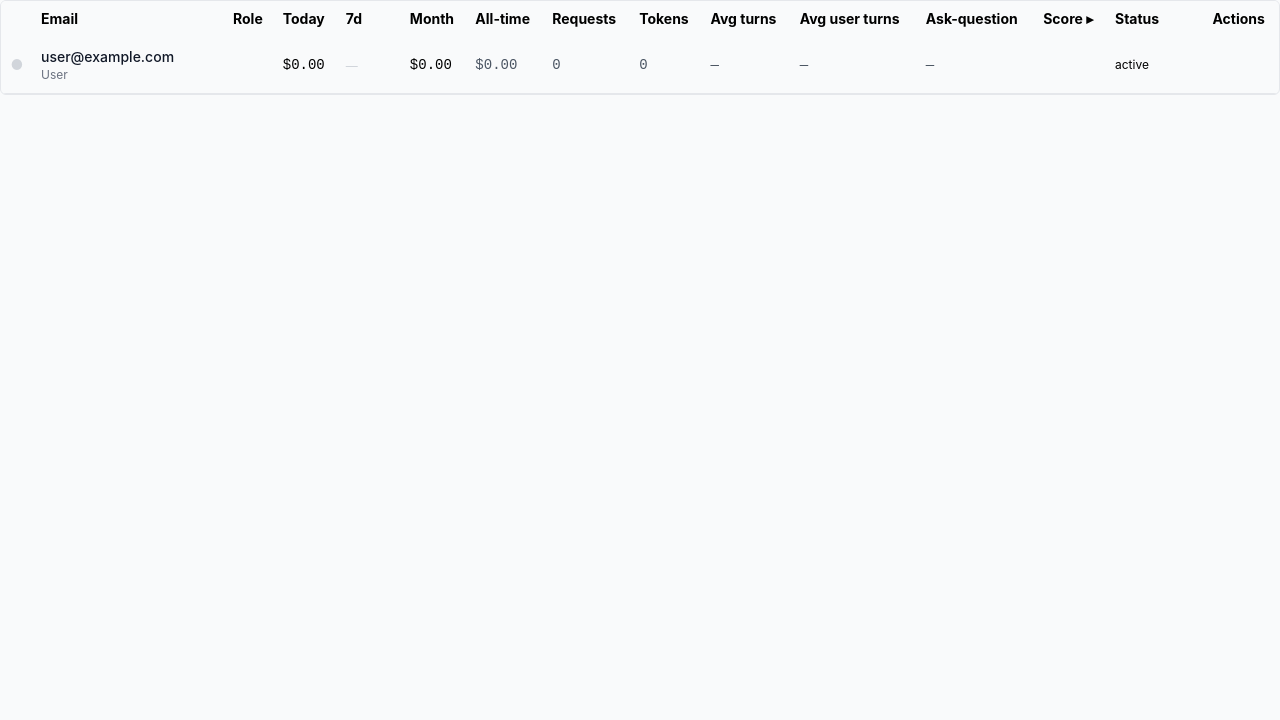
Test case: UserDetailPanel activity stats gating › defers the expensive activity stats to an on-demand button
Click the text "user@example.com" at coordinates (108, 57), box x1=41 y1=47 x2=174 y2=67
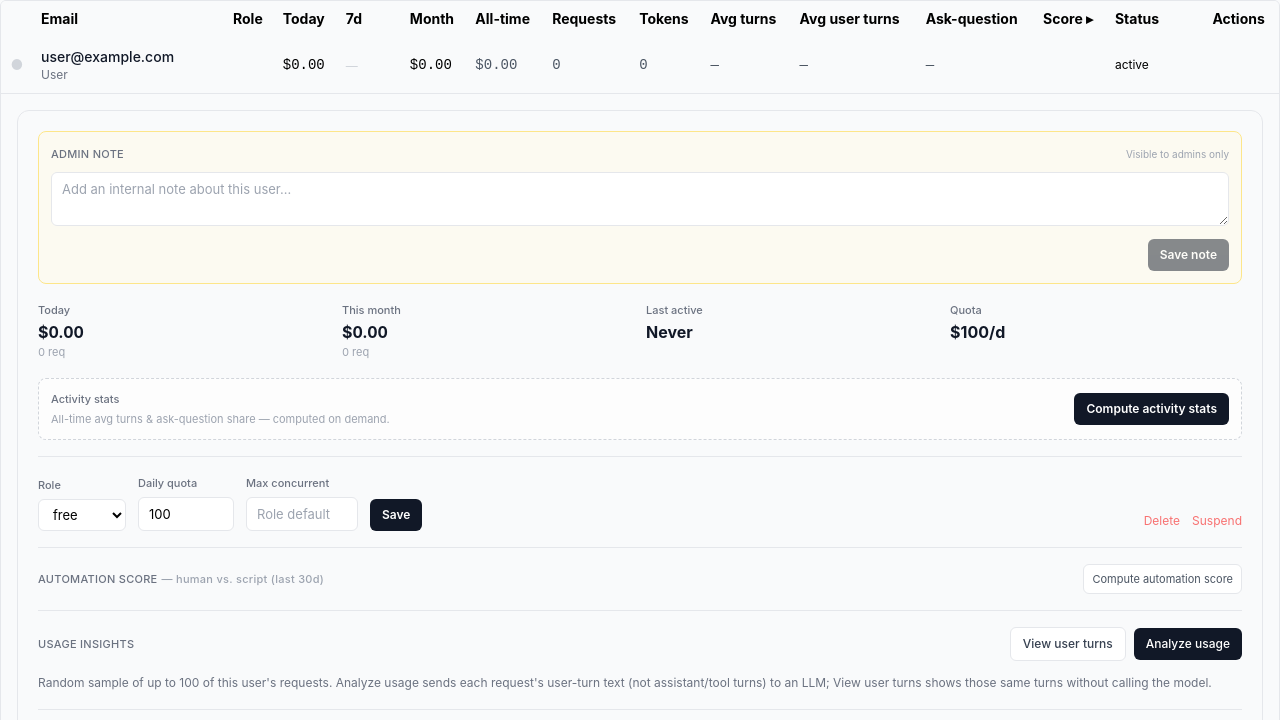
Check: the number of column headings "Avg turns" is 1, box x1=702 y1=1 x2=792 y2=37
Click the button "Compute activity stats" at coordinates (1152, 408), box x1=1074 y1=392 x2=1229 y2=424
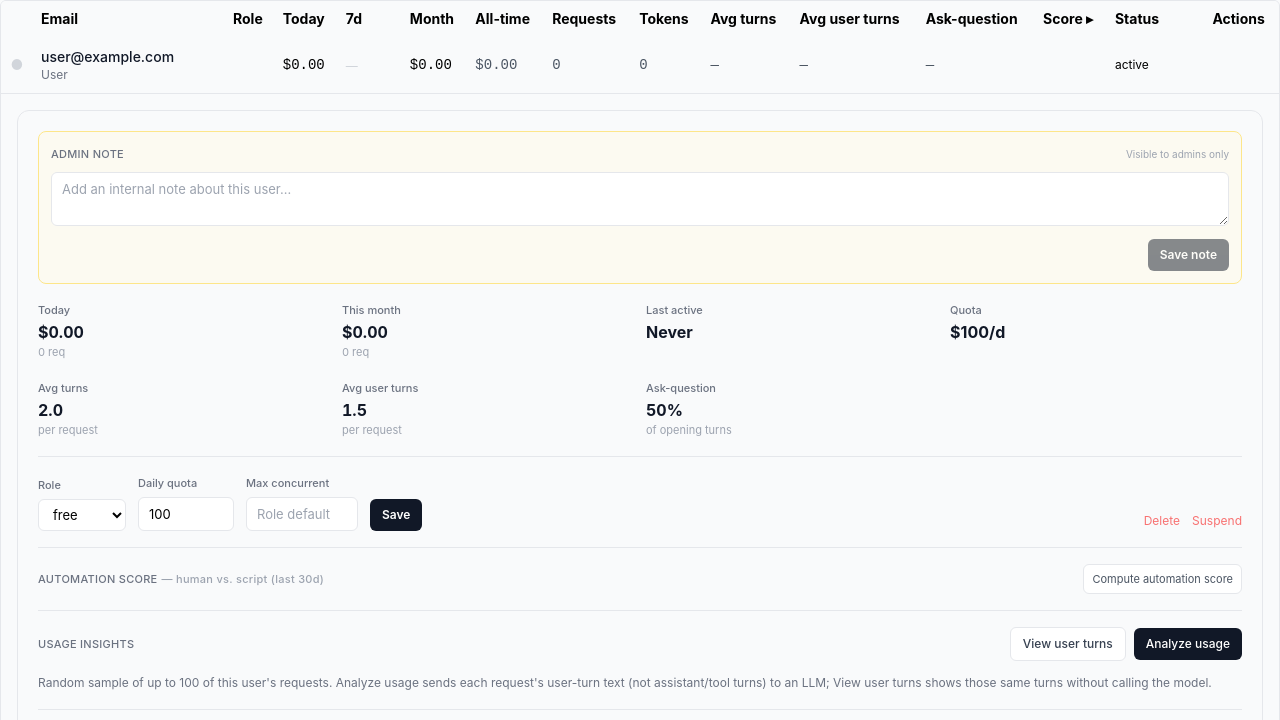
Check: the number of column headings "Avg turns" is 2, box x1=702 y1=1 x2=792 y2=37; x1=38 y1=380 x2=88 y2=394
Check: the button "Compute activity stats" is gone
Check: the text "50%" is shown, box x1=646 y1=400 x2=683 y2=420
